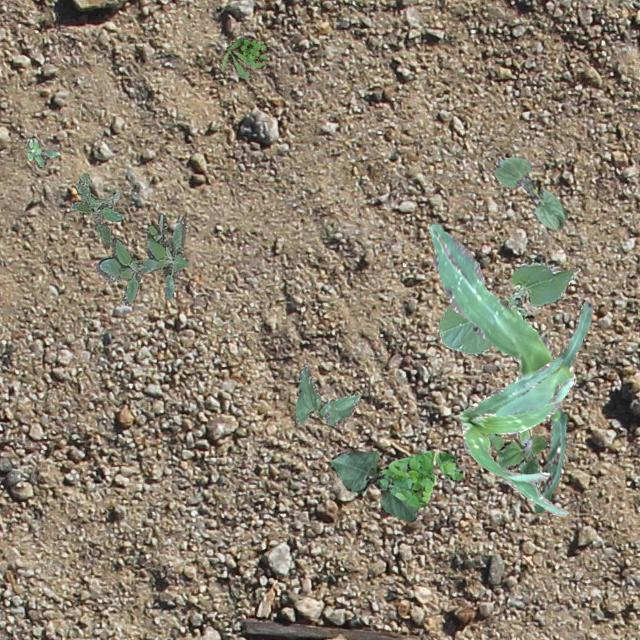crop: (428, 224, 592, 512), (458, 356, 572, 516), (438, 260, 578, 354), (328, 450, 416, 520), (492, 156, 566, 230), (294, 362, 358, 424)
weed: (94, 212, 188, 304), (377, 448, 462, 506), (70, 172, 124, 246), (486, 428, 546, 490), (218, 36, 266, 76), (23, 138, 58, 166)
